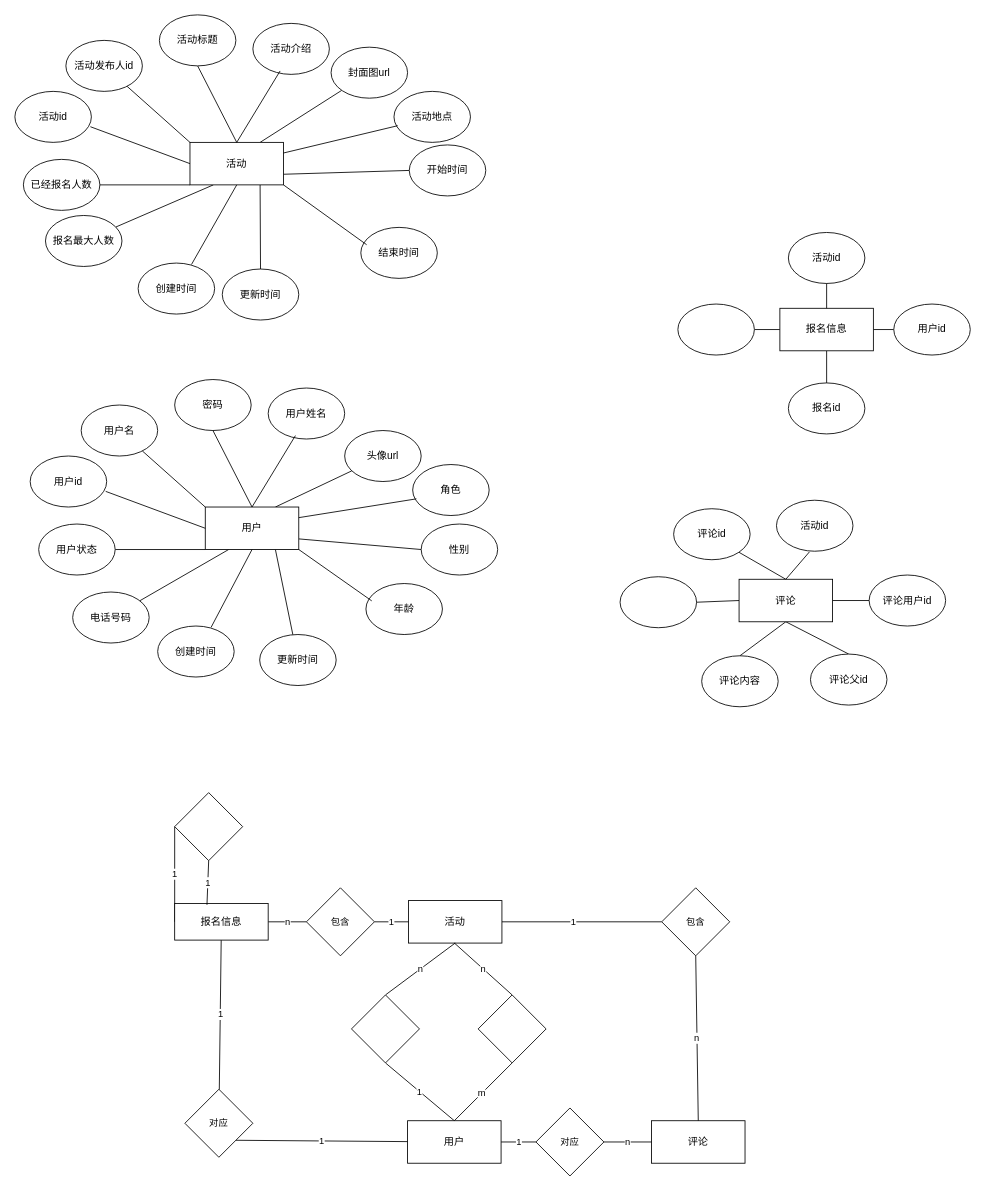
The diagram is 985 pixels wide and 1191 high, and some of its shapes have lost their labels. Here are the shapes that lost their labels. From the top down, the centre of each, then its label:
point (715, 329): 报名时间
point (658, 602): 评论时间
point (208, 826): 依赖
point (385, 1028): 创建
point (511, 1028): 报名
